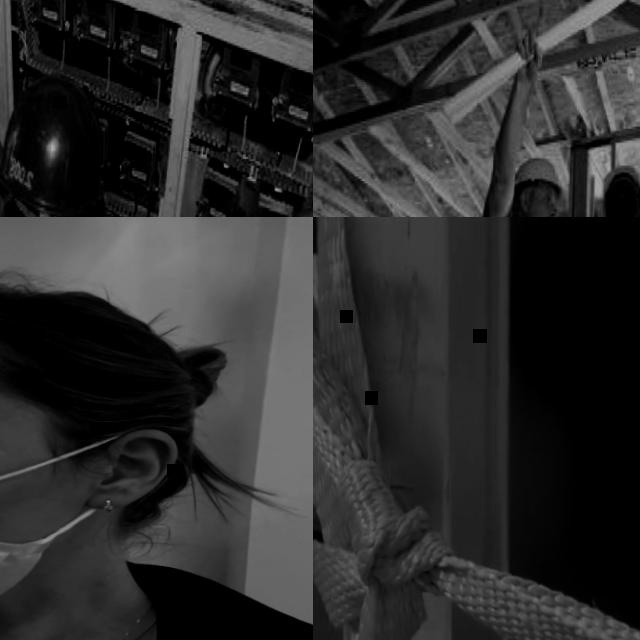Hardhat: (0, 74, 109, 217), (600, 164, 640, 217), (516, 158, 567, 188)
Mask: (0, 418, 136, 614)
NO-Hardhat: (0, 275, 212, 398)
NO-Mask: (611, 194, 636, 217), (525, 208, 555, 217)
Person: (0, 267, 313, 640), (441, 0, 571, 217), (0, 70, 152, 217)
